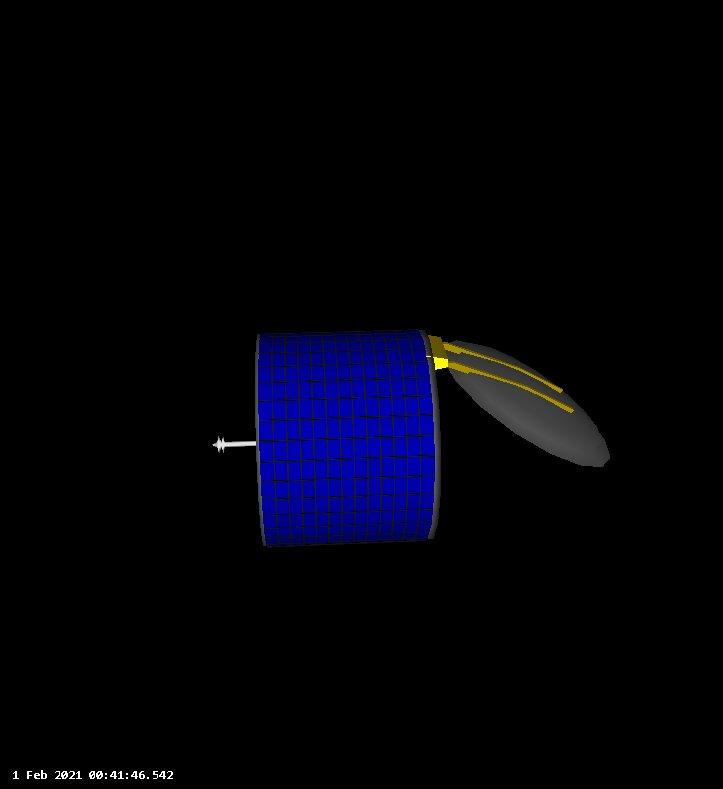antenna: (441, 335, 613, 470), (208, 433, 260, 457)
body: (251, 326, 442, 551)
solar: (254, 329, 436, 549)
